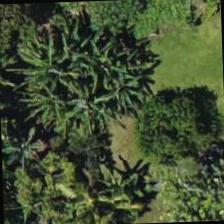Kelapa_Sawit: (63, 149, 157, 223)
